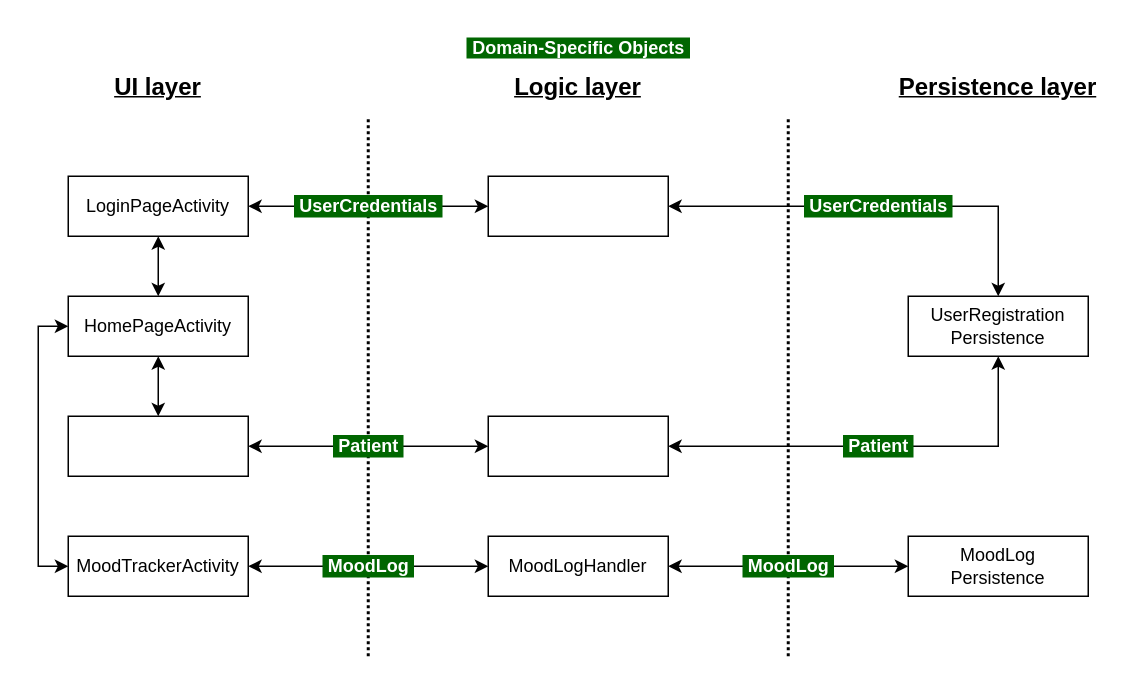
The diagram is 1145 pixels wide and 684 high, and some of its shapes have lost their labels. The shapes that lost their labels are listed below. From the top down, each one's box as (x1, y1, x2, y2) in pixels, then its label:
(487, 175, 668, 236): UserValidation Handler
(67, 415, 248, 476): UserDetailsActivity
(487, 415, 668, 476): PatientHandler
